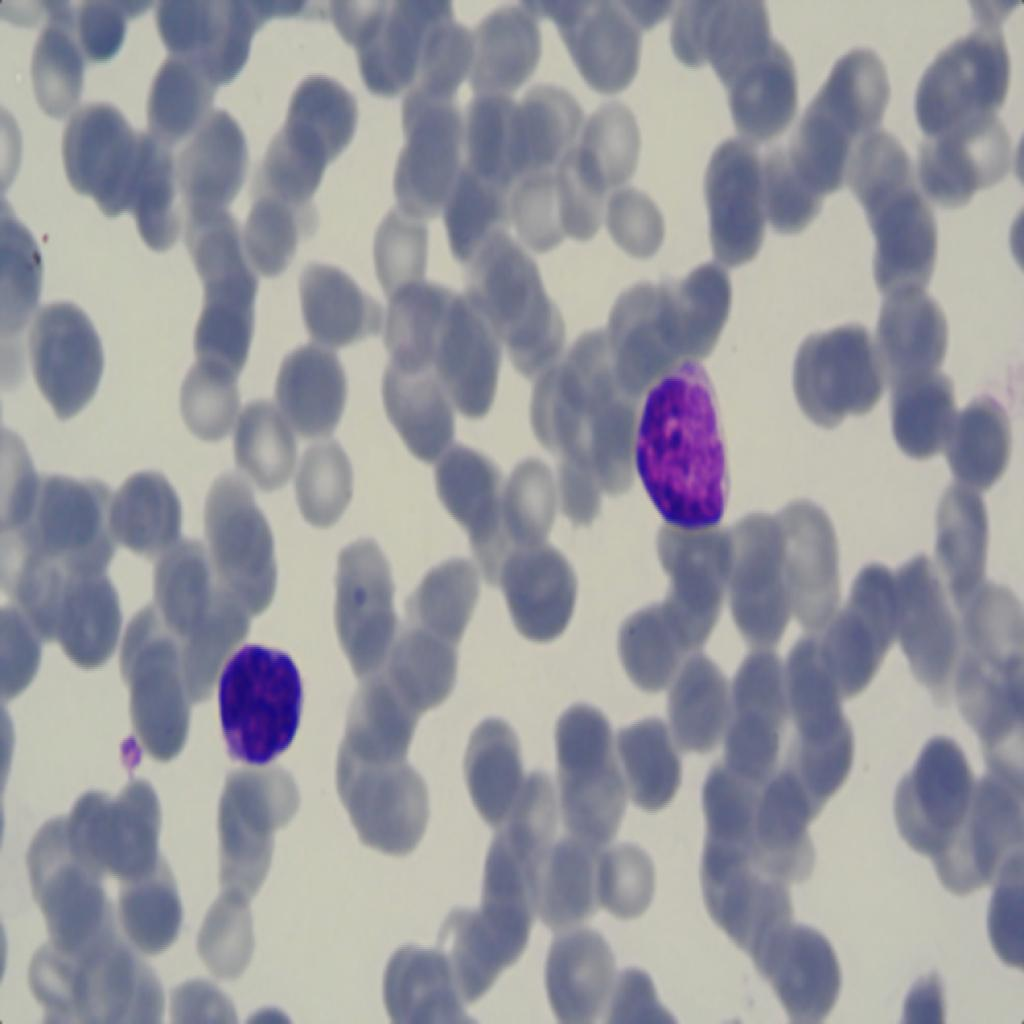Myeoblast: (625, 346, 748, 552), (192, 620, 310, 778)
Platelet: (122, 722, 148, 777)
